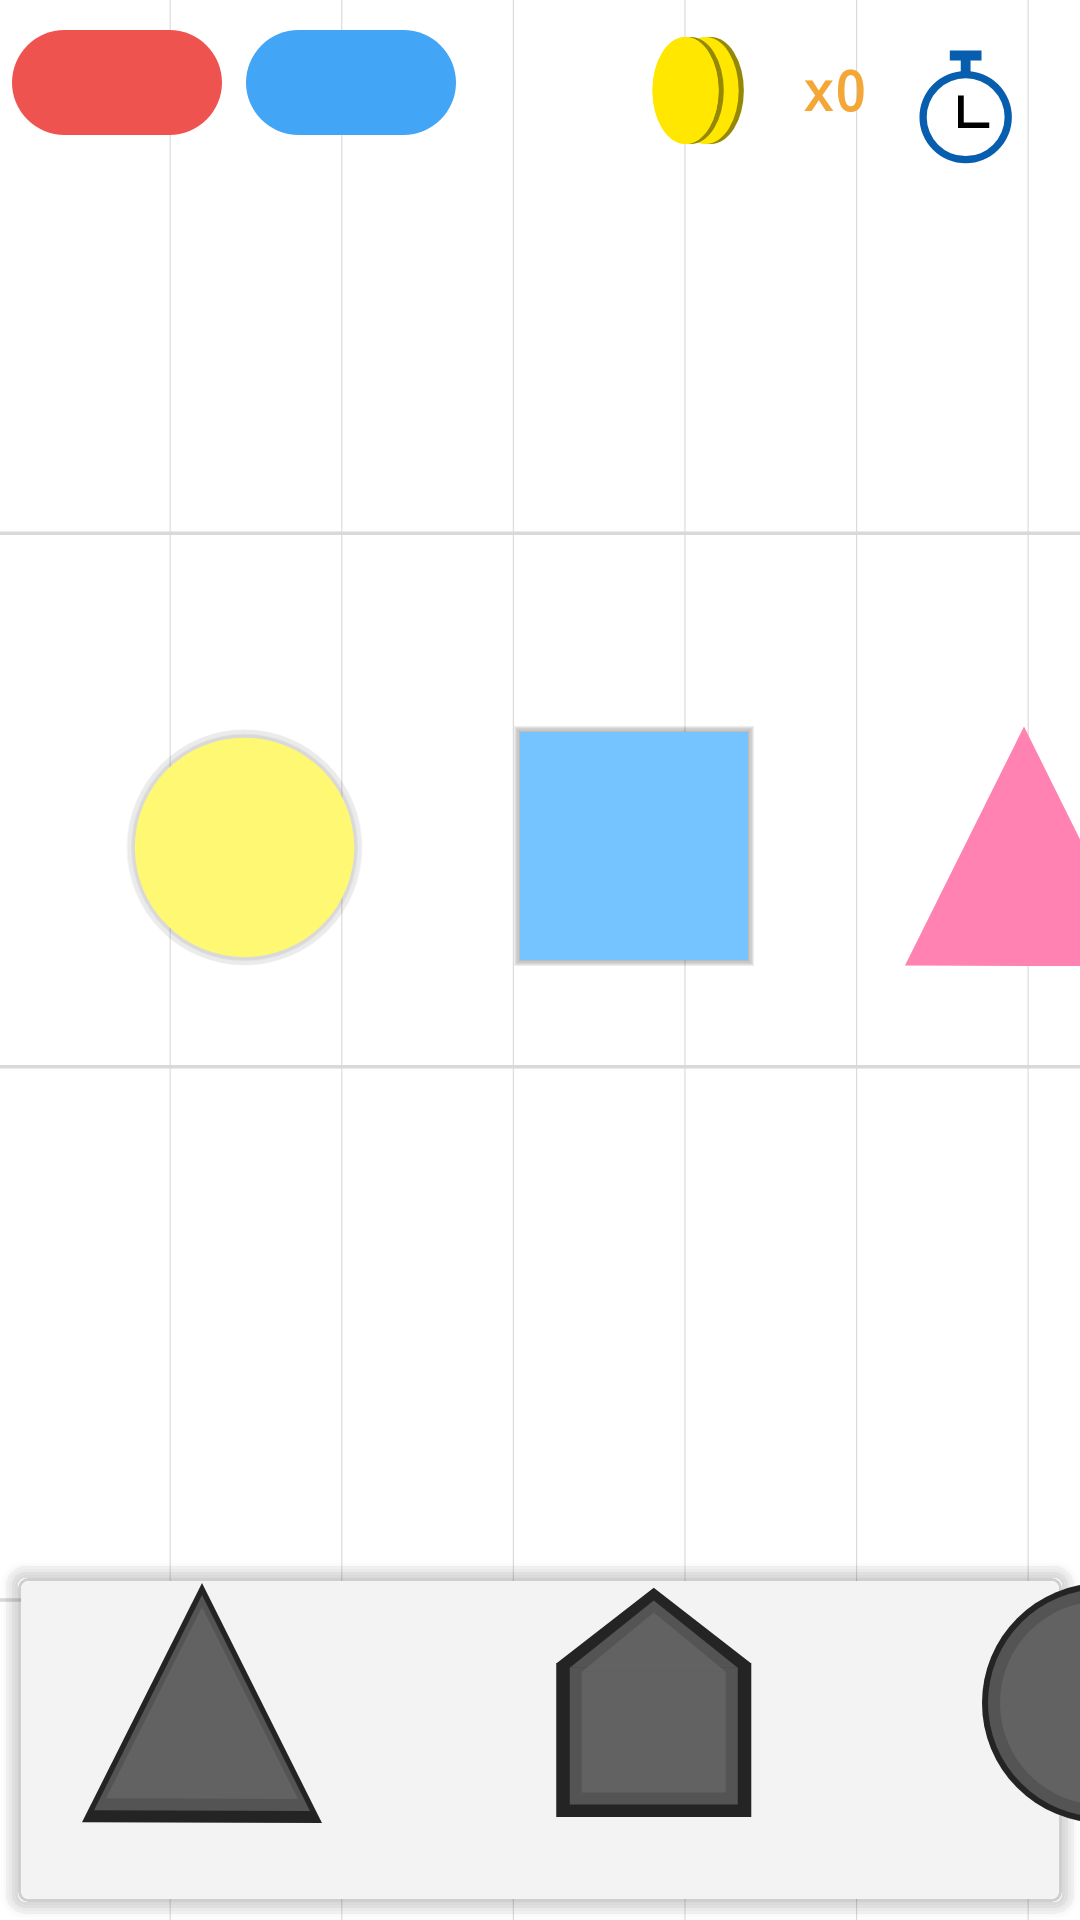

Where icons sit on this 1080px×1920px app screen, as (x1, y1, x2, y2):
casa slock: (556, 1588, 752, 1817)
monedas: (652, 37, 744, 144)
timer: (919, 50, 1012, 164)
